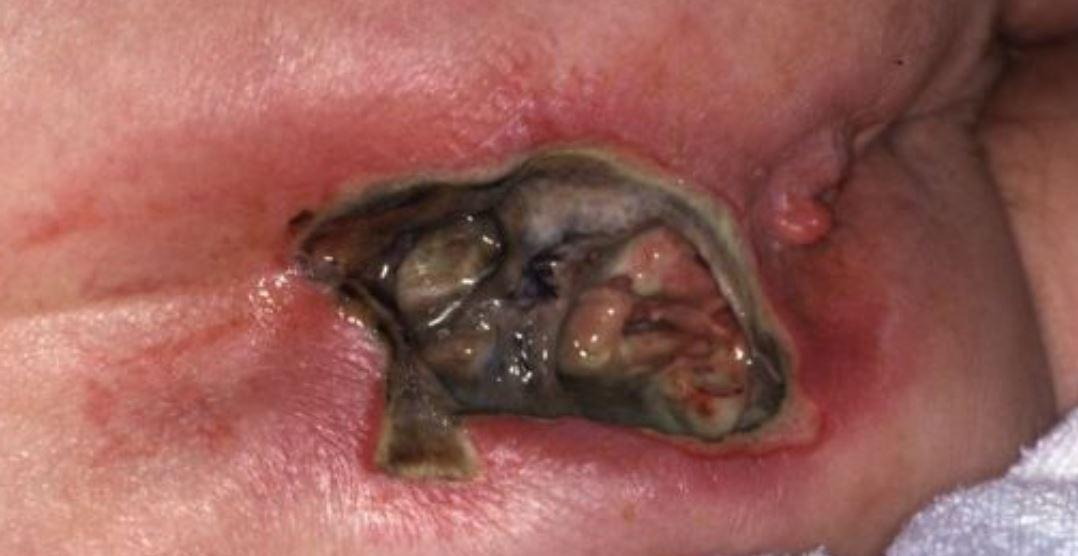Stage4: (285, 106, 872, 538)
